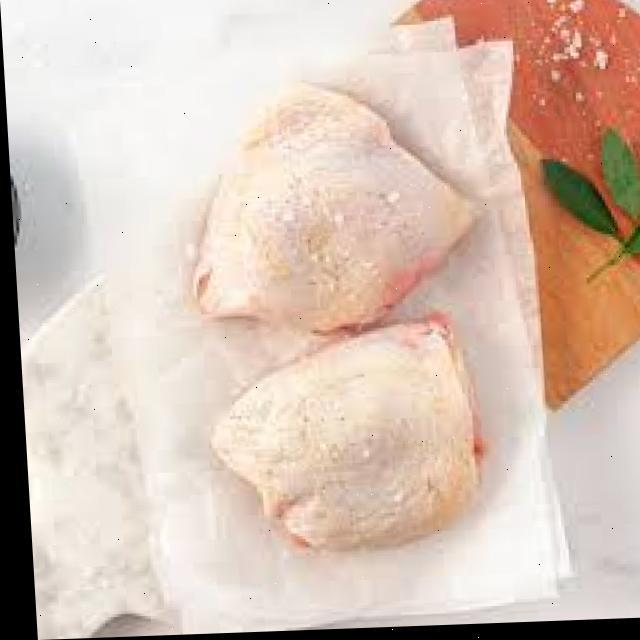thigh: (162, 79, 474, 332), (196, 334, 491, 556)
